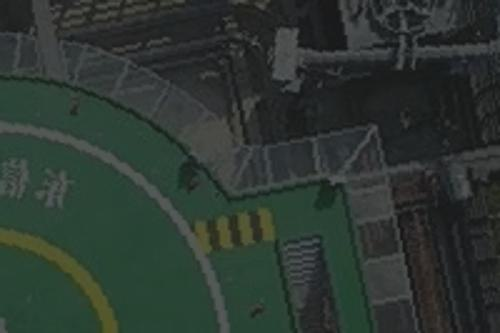Apron: (1, 223, 122, 333)
